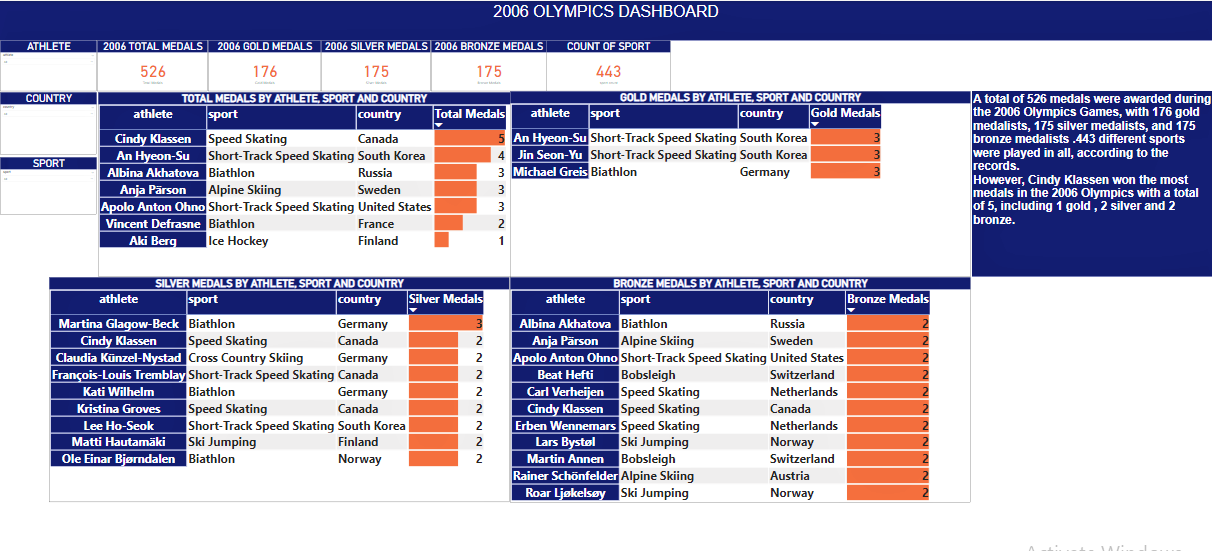

Layout of this report page (visuals, bound fields, positions):
{"tool":"powerbi","page":{"name":"2006 OLYMPICS REPORT","canvas":[5500,2500],"ordinal":3},"visuals":[{"type":"textbox","box":[0,0,5500,178.6],"z":0},{"type":"slicer","title":"ATHLETE","fields":{"Values":["2006 olympics.athlete"]},"box":[0,179,440.3,232.3],"z":1000},{"type":"slicer","title":"COUNTRY","fields":{"Values":["2006 olympics.country"]},"box":[0,411.3,440.3,285.5],"z":2000},{"type":"slicer","title":"SPORT","fields":{"Values":["2006 olympics.sport"]},"box":[0,706.5,440.3,261.3],"z":3000},{"type":"card","title":"2006 TOTAL MEDALS","fields":{"Values":["2006 olympics.Total Medals"]},"box":[440.3,179,503.2,232.3],"z":4000},{"type":"card","title":"2006 GOLD MEDALS","fields":{"Values":["2006 olympics.Gold Medals"]},"box":[943.5,179,512.9,232.3],"z":5000},{"type":"card","title":"2006 SILVER MEDALS","fields":{"Values":["2006 olympics.Silver Medals"]},"box":[1456.5,179,498.4,232.3],"z":6000},{"type":"card","title":"2006 BRONZE MEDALS","fields":{"Values":["2006 olympics.Bronze Medals"]},"box":[1954.8,179,522.6,232.3],"z":7000},{"type":"card","title":"COUNT OF SPORT","fields":{"Values":["2006 olympics.sport count"]},"box":[2477.4,179,566.1,232.3],"z":8000},{"type":"tableEx","title":"TOTAL MEDALS BY ATHLETE, SPORT AND COUNTRY","fields":{"Values":["2006 olympics.athlete","2006 olympics.sport","2006 olympics.country","2006 olympics.Total Medals"]},"box":[442.9,413.4,1872,838.6],"z":9000},{"type":"tableEx","title":"GOLD MEDALS BY ATHLETE, SPORT AND COUNTRY","fields":{"Values":["2006 olympics.athlete","2006 olympics.sport","2006 olympics.country","2006 olympics.Gold Medals"]},"box":[2315,407.5,2090.6,844.5],"z":10000},{"type":"tableEx","title":"SILVER MEDALS BY ATHLETE, SPORT AND COUNTRY","fields":{"Values":["2006 olympics.athlete","2006 olympics.sport","2006 olympics.country","2006 olympics.Silver Medals"]},"box":[222.6,1253.2,2090.3,1021],"z":11000},{"type":"tableEx","title":"BRONZE MEDALS BY ATHLETE, SPORT AND COUNTRY","fields":{"Values":["2006 olympics.athlete","2006 olympics.sport","2006 olympics.country","2006 olympics.Bronze Medals"]},"box":[2315,1252,2090.6,1021.7],"z":12000},{"type":"textbox","box":[4408.2,408.2,1091.8,841.8],"z":12001}]}

Visuals, with their boxes on the page's 5500x2500 design canvas (x1, y1, x2, y2). These are canvas units, not pixel positions in the 1212x551 screenshot, which may show the page scaled, cropped or inside an application window:
textbox: bbox=[0, 0, 5500, 179]
"ATHLETE" slicer: bbox=[0, 179, 440, 411]
"COUNTRY" slicer: bbox=[0, 411, 440, 697]
"SPORT" slicer: bbox=[0, 706, 440, 968]
"2006 TOTAL MEDALS" card: bbox=[440, 179, 944, 411]
"2006 GOLD MEDALS" card: bbox=[944, 179, 1456, 411]
"2006 SILVER MEDALS" card: bbox=[1456, 179, 1955, 411]
"2006 BRONZE MEDALS" card: bbox=[1955, 179, 2477, 411]
"COUNT OF SPORT" card: bbox=[2477, 179, 3044, 411]
"TOTAL MEDALS BY ATHLETE, SPORT AND COUNTRY" tableEx: bbox=[443, 413, 2315, 1252]
"GOLD MEDALS BY ATHLETE, SPORT AND COUNTRY" tableEx: bbox=[2315, 408, 4406, 1252]
"SILVER MEDALS BY ATHLETE, SPORT AND COUNTRY" tableEx: bbox=[223, 1253, 2313, 2274]
"BRONZE MEDALS BY ATHLETE, SPORT AND COUNTRY" tableEx: bbox=[2315, 1252, 4406, 2274]
textbox: bbox=[4408, 408, 5500, 1250]
